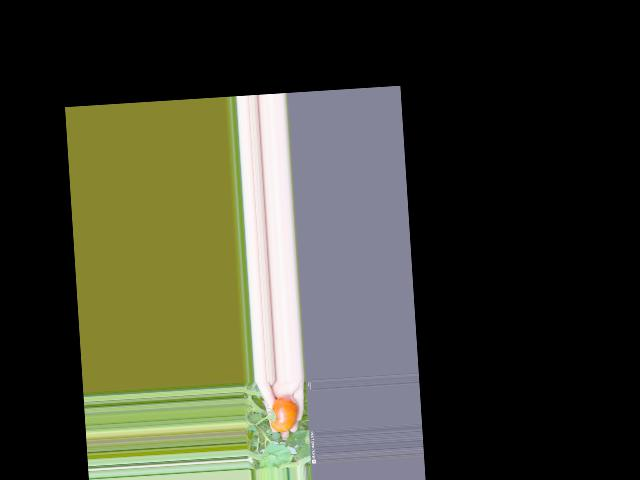tomato: (269, 395, 299, 432)
